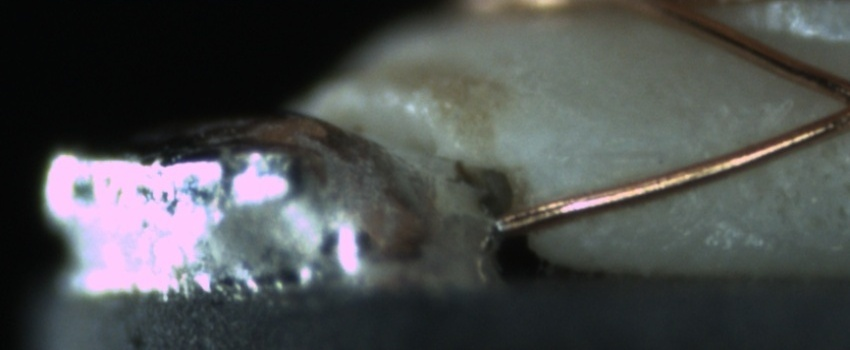CL: (806, 67, 850, 136)
DL: (567, 126, 689, 183)
